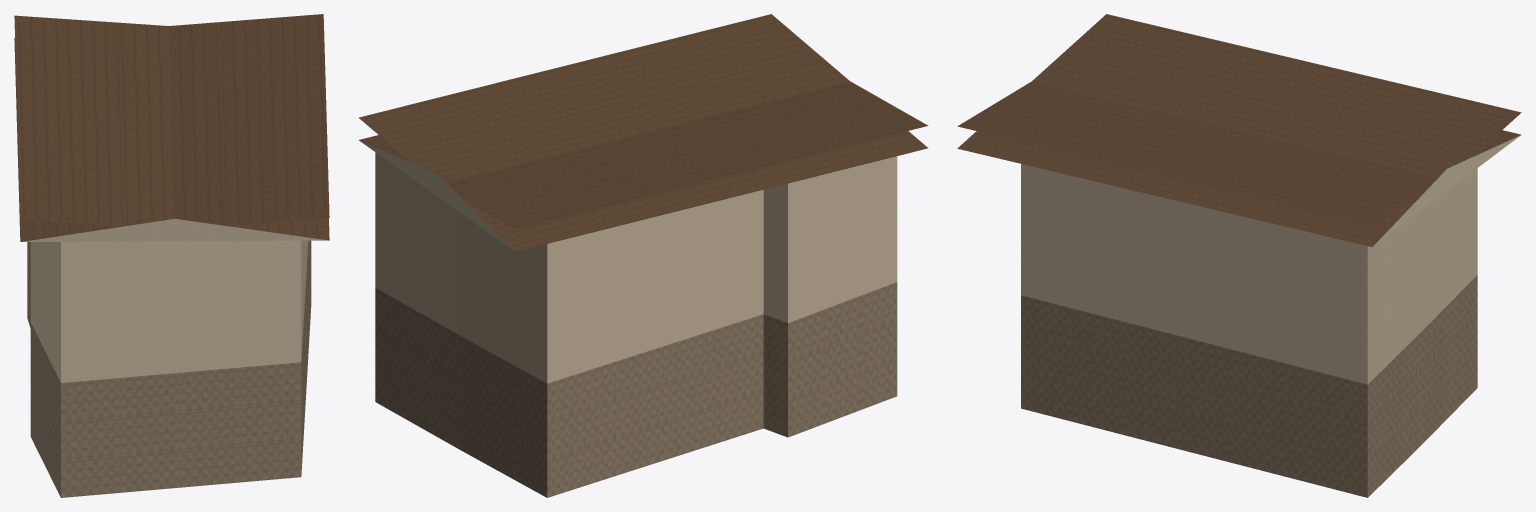
The model's file is bld_c37_35_297.gltf.
The picture shows the model from 3 angles, left to right: view 1: azimuth 30°, elevation 25°; view 2: azimuth 150°, elevation 25°; view 3: azimuth 270°, elevation 25°; orthographic projection.
Parts seen in each view (by area): view 1: bld_c37_35_297; view 2: bld_c37_35_297; view 3: bld_c37_35_297.
Boxes of the visible parts, box(x1,y1,x2,y2) form: bld_c37_35_297: box(14, 14, 329, 497); bld_c37_35_297: box(358, 14, 928, 497); bld_c37_35_297: box(957, 14, 1521, 497).
Size of the model in its own units: 20.35 by 12.6 by 23.02.
4 materials, 4 textured.
